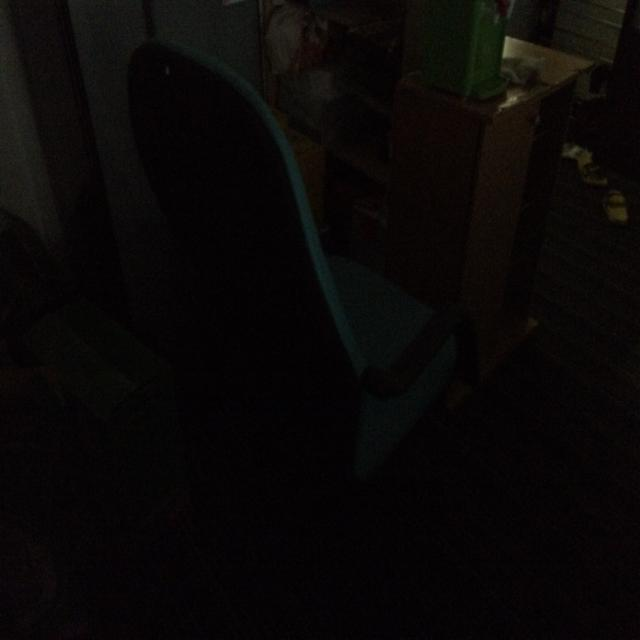Table: (405, 7, 588, 388)
chair: (120, 37, 466, 540)
